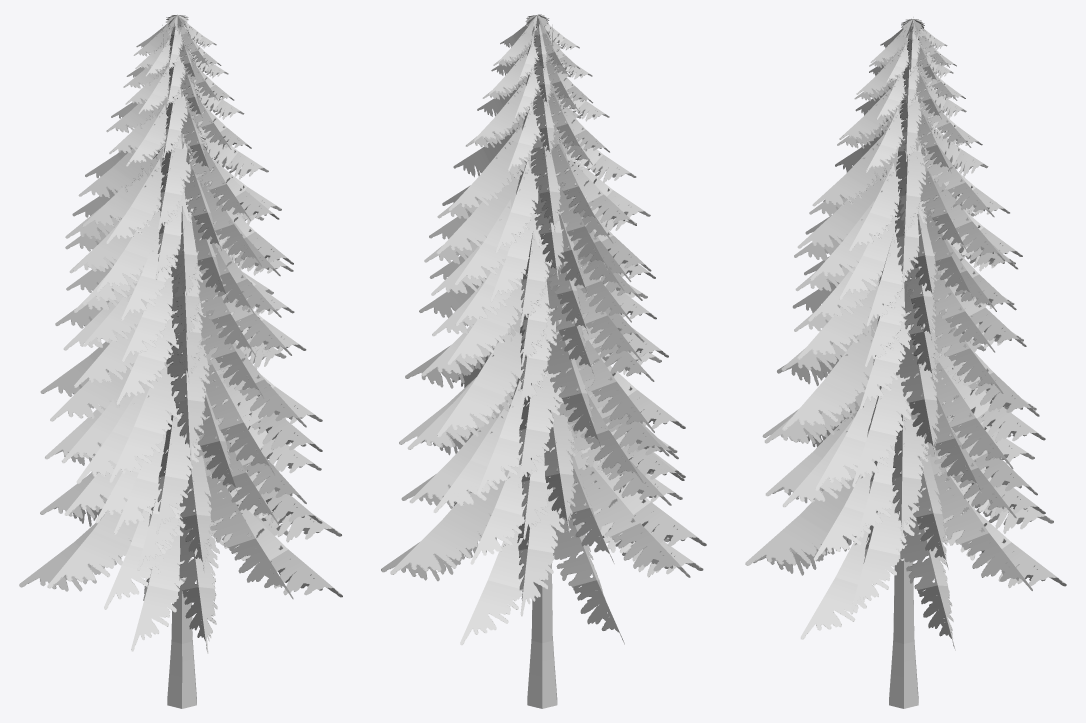
Rendered from PineTree3.fbx.
3 renders of one model, left to right at view 1: azimuth 30°, elevation 25°; view 2: azimuth 150°, elevation 25°; view 3: azimuth 270°, elevation 25°, orthographic.
Parts seen in each view (by area): view 1: branch.103, tree; view 2: branch.103, tree; view 3: branch.103, tree.
Part boxes in pixels (x1,y1,x2,y2): branch.103: (19,14,342,653); tree: (162,24,196,708); branch.103: (381,14,706,645); tree: (527,24,557,708); branch.103: (745,18,1066,650); tree: (889,17,918,708).
Size of the model in its own units: 1780 by 4102 by 1805.
